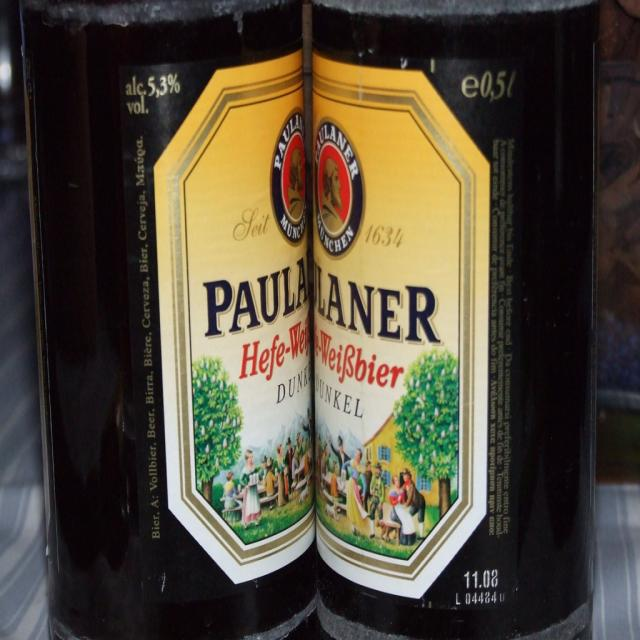paulaner: (313, 119, 366, 261), (271, 109, 308, 245)
